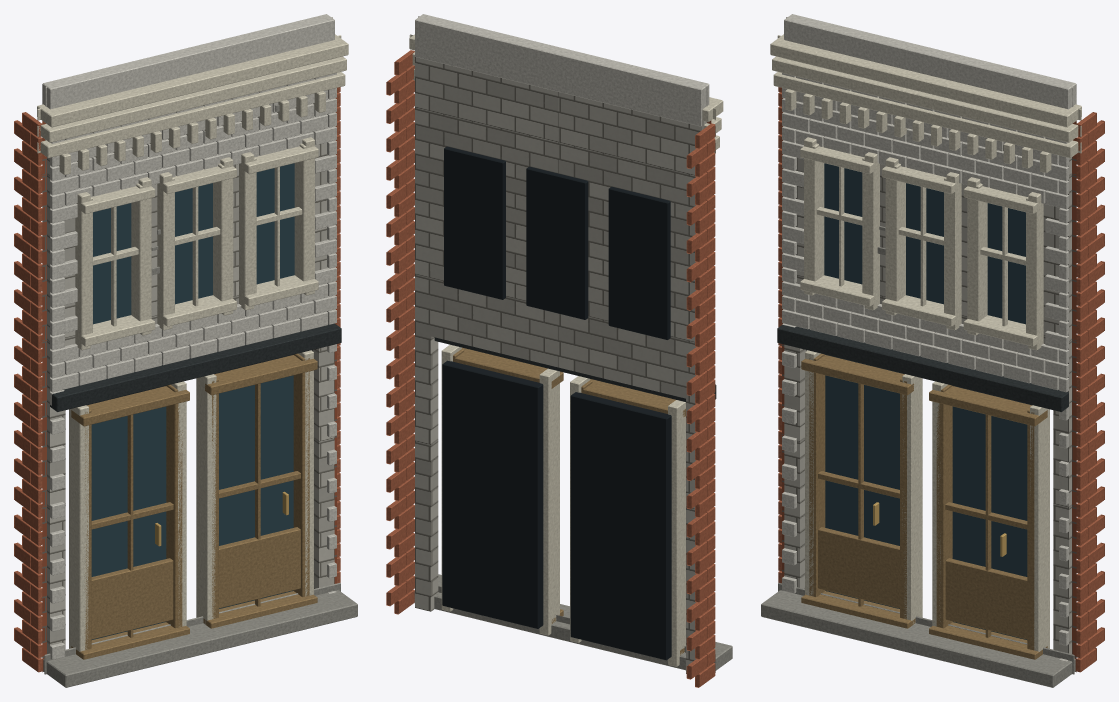
File: CLSTGA13_lod0.glb
3 renders of one model, left to right at view 1: azimuth 30°, elevation 25°; view 2: azimuth 150°, elevation 25°; view 3: azimuth 330°, elevation 25°, orthographic.
Visible parts, largest first — view 1: CLSTGA13_FRONT_LOD0; view 2: CLSTGA13_FRONT_LOD0; view 3: CLSTGA13_FRONT_LOD0.
Part boxes in pixels (<box>): CLSTGA13_FRONT_LOD0: <box>14,14,357,687</box>; CLSTGA13_FRONT_LOD0: <box>386,14,732,687</box>; CLSTGA13_FRONT_LOD0: <box>761,14,1104,687</box>.
Bounding box in the file's own units: 3.84 × 7.05 × 1.02.
Materials: 16 (13 with a texture image).
